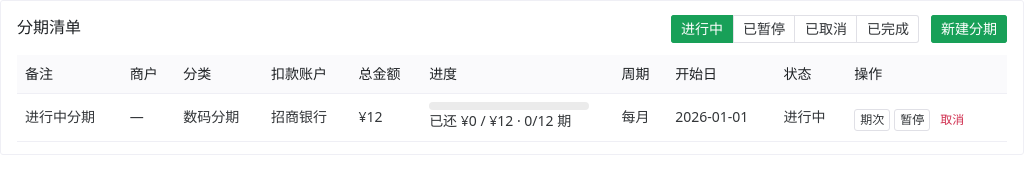
Test: InstallmentsPane 清单渲染冒烟（编排用例见 useScheduledPlanList.test.ts） › 状态过滤含「已完成」：completed 行经「已完成」过滤可见（#309 显式可见变化之二，迁移步 3 落地）
The image size is (1024, 172).
Check: the text "已还清分期" is not shown
Click the button with test id "filter-completed".
click(888, 29)  # box 857,15 -> 919,43
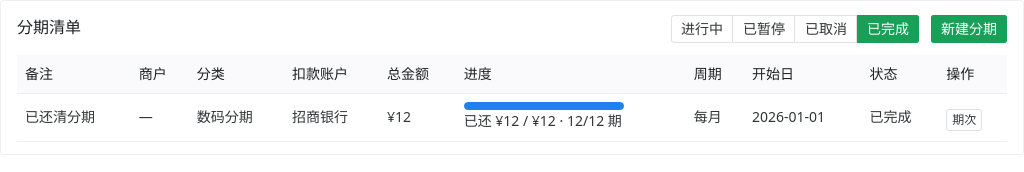
Check: the button with test id "op-detail-d1" is shown, box 946,109 -> 982,131
Check: the text "已还清分期" is shown, box 17,94 -> 131,142
Check: the text "进行中分期" is gone
